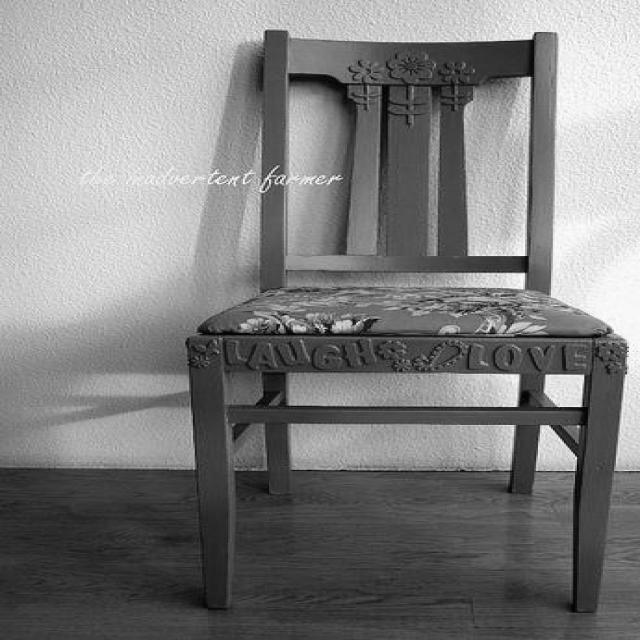chair: (186, 28, 630, 619)
